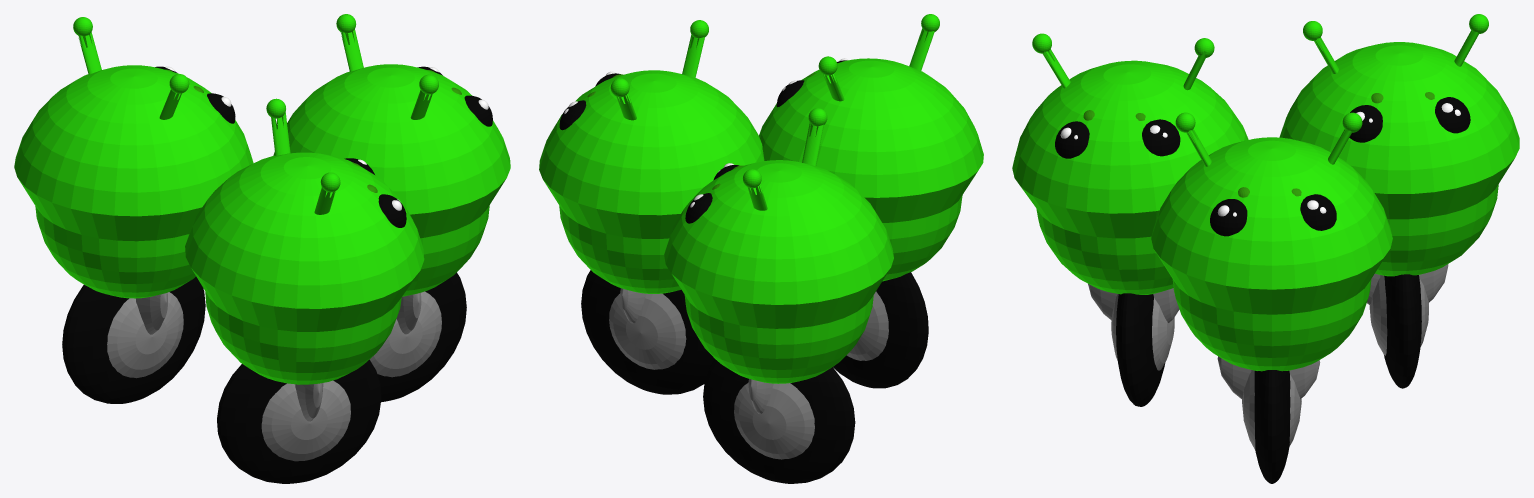
The model's file is EnemyAlienDay.fbx.
The picture shows the model from 3 angles, left to right: view 1: azimuth 30°, elevation 25°; view 2: azimuth 150°, elevation 25°; view 3: azimuth 270°, elevation 25°; orthographic projection. The views are drawn at different scales.
Visible parts, largest first — view 1: Sphere.026, Sphere.039, Sphere.011, Sphere.030, Sphere.035, Sphere.027, Sphere.038, Sphere.003, Sphere.010, Sphere.034, Sphere.031, Sphere.002 (+4 smaller); view 2: Sphere.039, Sphere.011, Sphere.026, Sphere.035, Sphere.003, Sphere.030, Sphere.033, Sphere.001, Sphere.032, Sphere.004, Cylinder.004, Sphere.036 (+3 smaller); view 3: Sphere.011, Sphere.039, Sphere.026, Sphere.030, Sphere.003, Sphere.035, Sphere.032, Sphere.006, Sphere.012, Sphere.038, Sphere.021, Sphere.025 (+8 smaller).
Boxes of the visible parts, x1=… form: Sphere.026: x1=185, y1=152, x2=424, y2=384; Sphere.039: x1=14, y1=65, x2=253, y2=298; Sphere.011: x1=273, y1=64, x2=510, y2=296; Sphere.030: x1=217, y1=359, x2=381, y2=483; Sphere.035: x1=62, y1=276, x2=205, y2=403; Sphere.027: x1=261, y1=380, x2=350, y2=461; Sphere.038: x1=107, y1=292, x2=183, y2=378; Sphere.003: x1=377, y1=272, x2=466, y2=402; Sphere.010: x1=369, y1=291, x2=441, y2=377; Sphere.034: x1=136, y1=292, x2=167, y2=334; Sphere.031: x1=295, y1=383, x2=323, y2=421; Sphere.002: x1=396, y1=292, x2=421, y2=334; Sphere.039: x1=664, y1=160, x2=893, y2=383; Sphere.011: x1=539, y1=70, x2=764, y2=293; Sphere.026: x1=759, y1=58, x2=983, y2=281; Sphere.035: x1=703, y1=359, x2=855, y2=483; Sphere.003: x1=581, y1=270, x2=714, y2=394; Sphere.030: x1=833, y1=272, x2=928, y2=388; Sphere.033: x1=734, y1=382, x2=814, y2=459; Sphere.001: x1=609, y1=293, x2=686, y2=369; Sphere.032: x1=846, y1=291, x2=888, y2=360; Sphere.004: x1=620, y1=288, x2=646, y2=323; Cylinder.004: x1=802, y1=122, x2=823, y2=165; Sphere.036: x1=748, y1=379, x2=773, y2=413; Sphere.011: x1=1151, y1=137, x2=1392, y2=371; Sphere.039: x1=1279, y1=42, x2=1519, y2=276; Sphere.026: x1=1012, y1=60, x2=1248, y2=294; Sphere.030: x1=1116, y1=293, x2=1165, y2=406; Sphere.003: x1=1254, y1=370, x2=1290, y2=483; Sphere.035: x1=1384, y1=274, x2=1421, y2=388; Sphere.032: x1=1152, y1=298, x2=1174, y2=370; Sphere.006: x1=1142, y1=119, x2=1180, y2=156; Sphere.012: x1=1210, y1=199, x2=1247, y2=236; Sphere.038: x1=1369, y1=275, x2=1387, y2=355; Sphere.021: x1=1300, y1=194, x2=1336, y2=230; Sphere.025: x1=1055, y1=121, x2=1089, y2=158.
Bounding box in the file's own units: 141 × 121 × 153.
